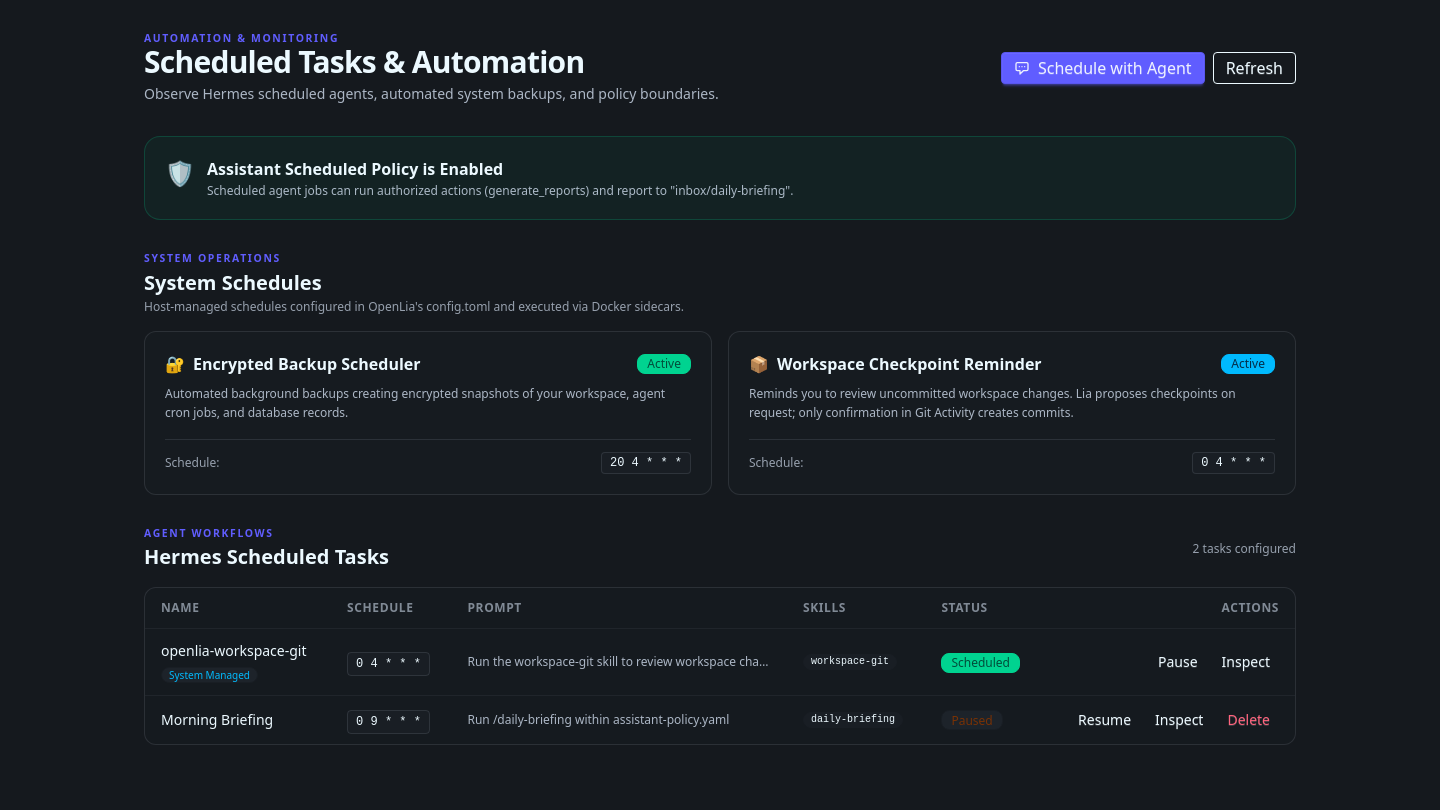
Test: SchedulePage › opens task details & prompt inspector modal
What coordinates should you click on to do the following:
click the button "Inspect" in the row of "openlia-workspace-git"
I would click on:
 (1246, 662)
Its box is left=1213, top=650, right=1279, bottom=674.
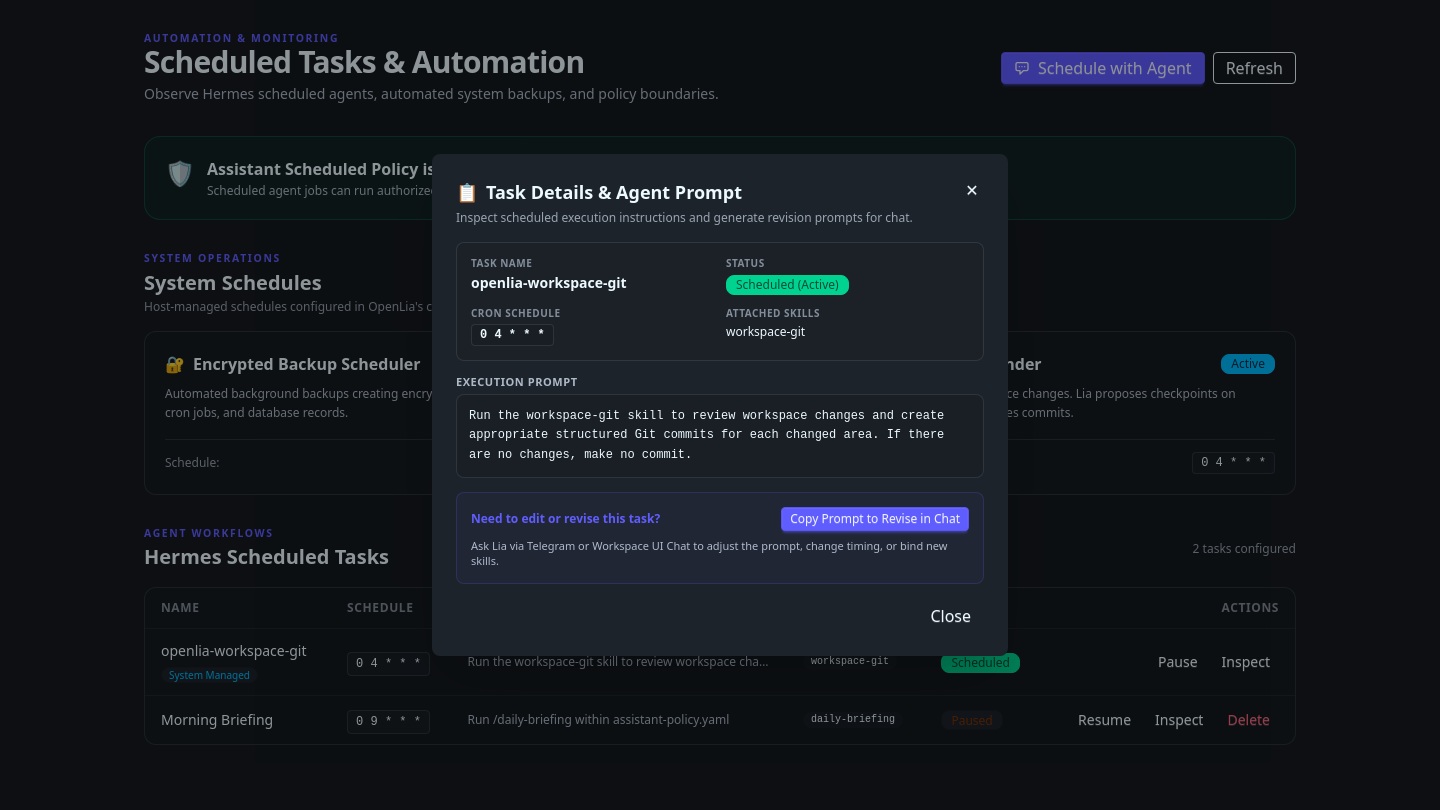
expect the heading "📋 Task Details & Agent Prompt" is shown: met, box left=456, top=180, right=742, bottom=204
expect the text "Need to edit or revise this task?" is shown: met, box left=471, top=511, right=660, bottom=527
What coordinates should you click on to do the following:
click the button "Close"
I would click on:
 (951, 616)
Its box is left=917, top=600, right=984, bottom=632.
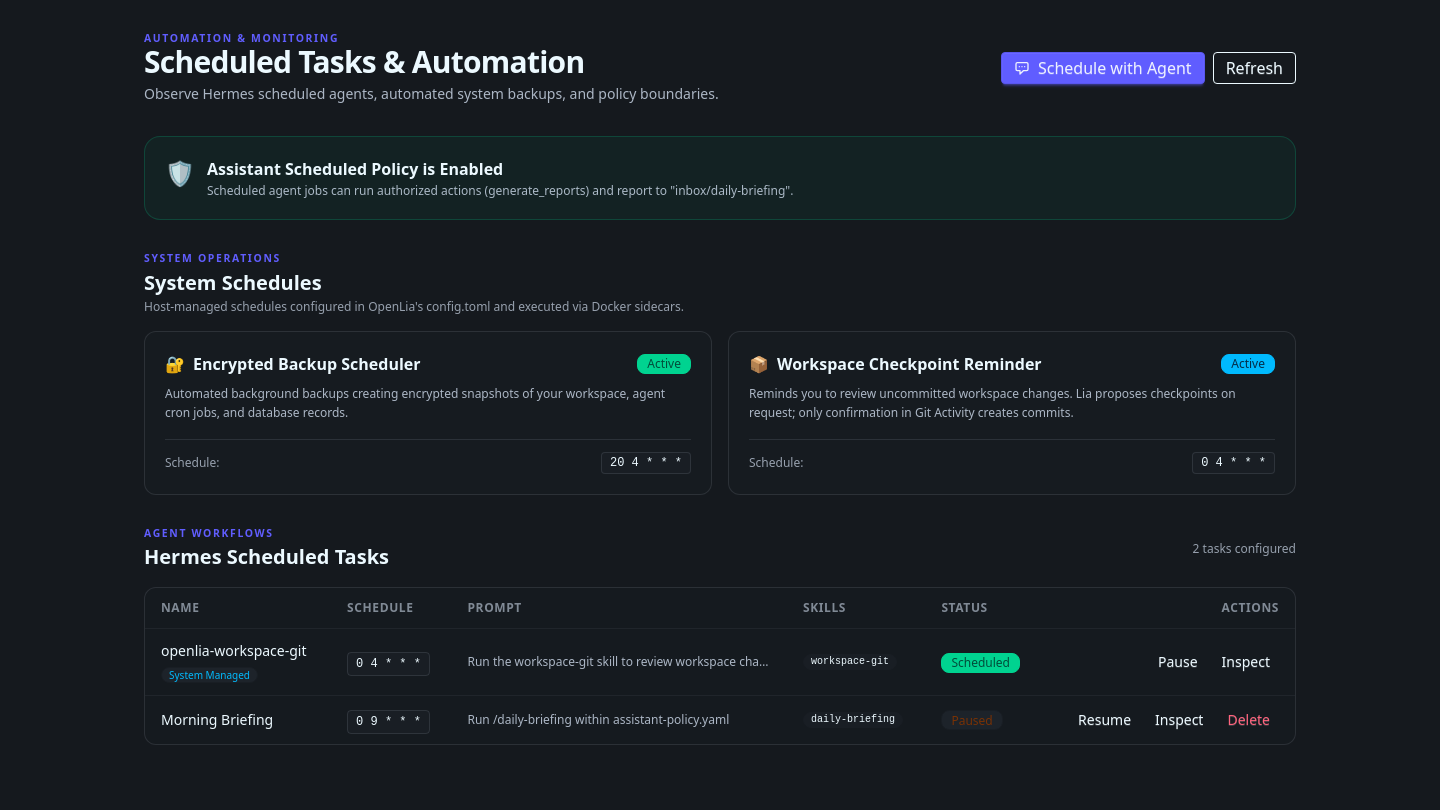
expect the heading "Task Details & Agent Prompt" is gone: met
